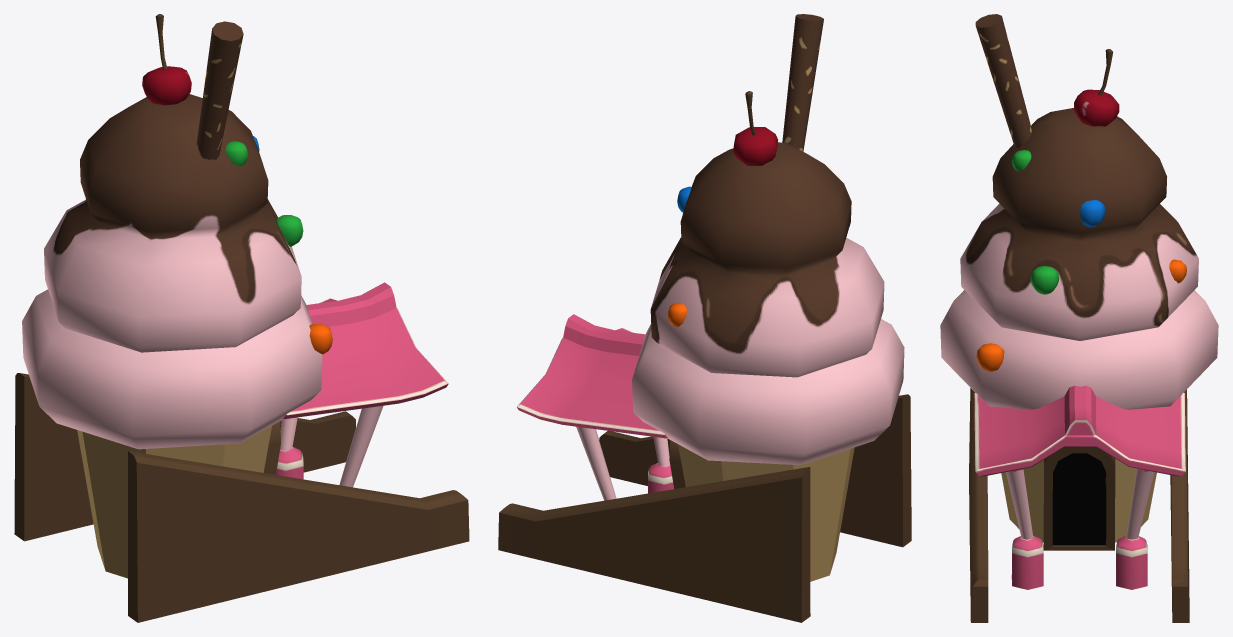
Rendered from Gumdrops_Entrance.fbx.
3 views of the same model, side by side, from view 1: azimuth 30°, elevation 25°; view 2: azimuth 150°, elevation 25°; view 3: azimuth 270°, elevation 25° (orthographic). The views are drawn at different scales.
Parts seen in each view (by area): view 1: polySurface200; view 2: polySurface200; view 3: polySurface200.
Boxes of the visible parts, x1,y1,x2,y2 form: polySurface200: [14, 14, 469, 622]; polySurface200: [498, 14, 911, 622]; polySurface200: [940, 14, 1218, 622].
Size of the model in its own units: 0.0737 by 0.107 by 0.0535.
